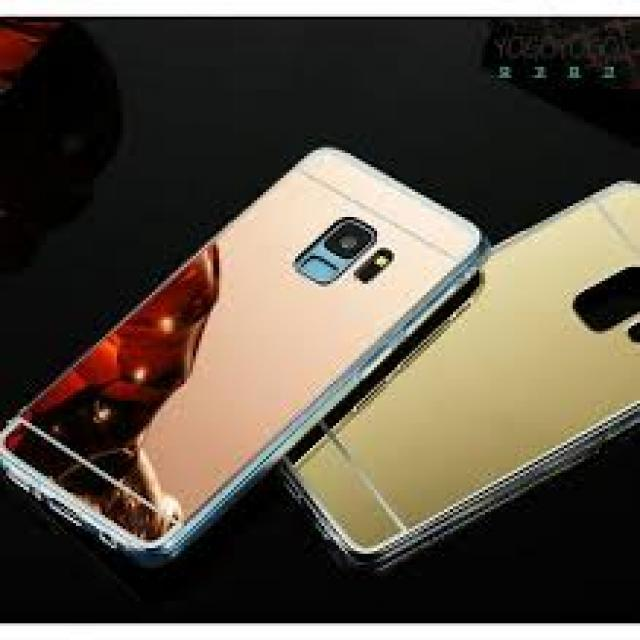Phone: (0, 144, 487, 566), (278, 176, 640, 568)
